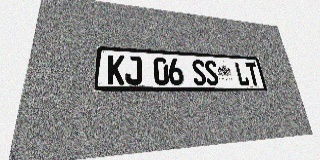0: (153, 57, 169, 85)
6: (168, 58, 184, 85)
J: (125, 56, 142, 85)
K: (107, 55, 125, 85)
L: (234, 62, 250, 86)
S: (191, 59, 207, 85), (204, 60, 220, 85)
T: (245, 62, 261, 86)
